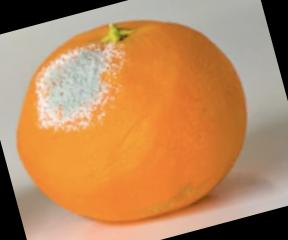Orange Rotten: (6, 11, 258, 227)
